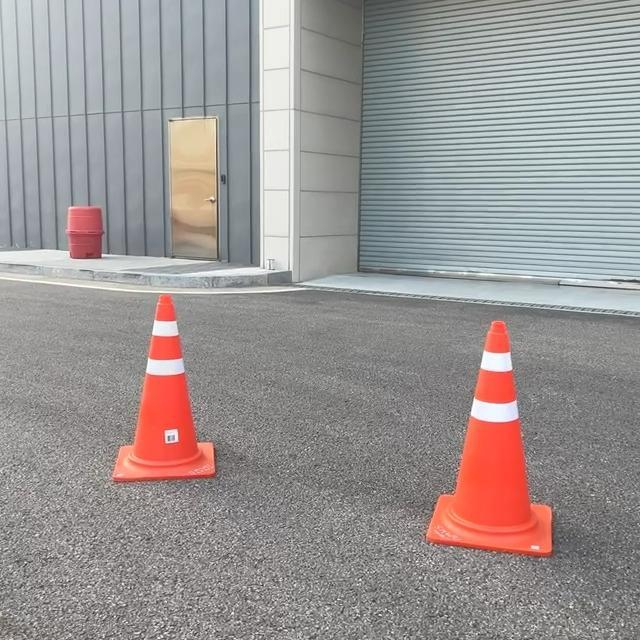fallen_object: (415, 279, 554, 600), (67, 292, 237, 496)
